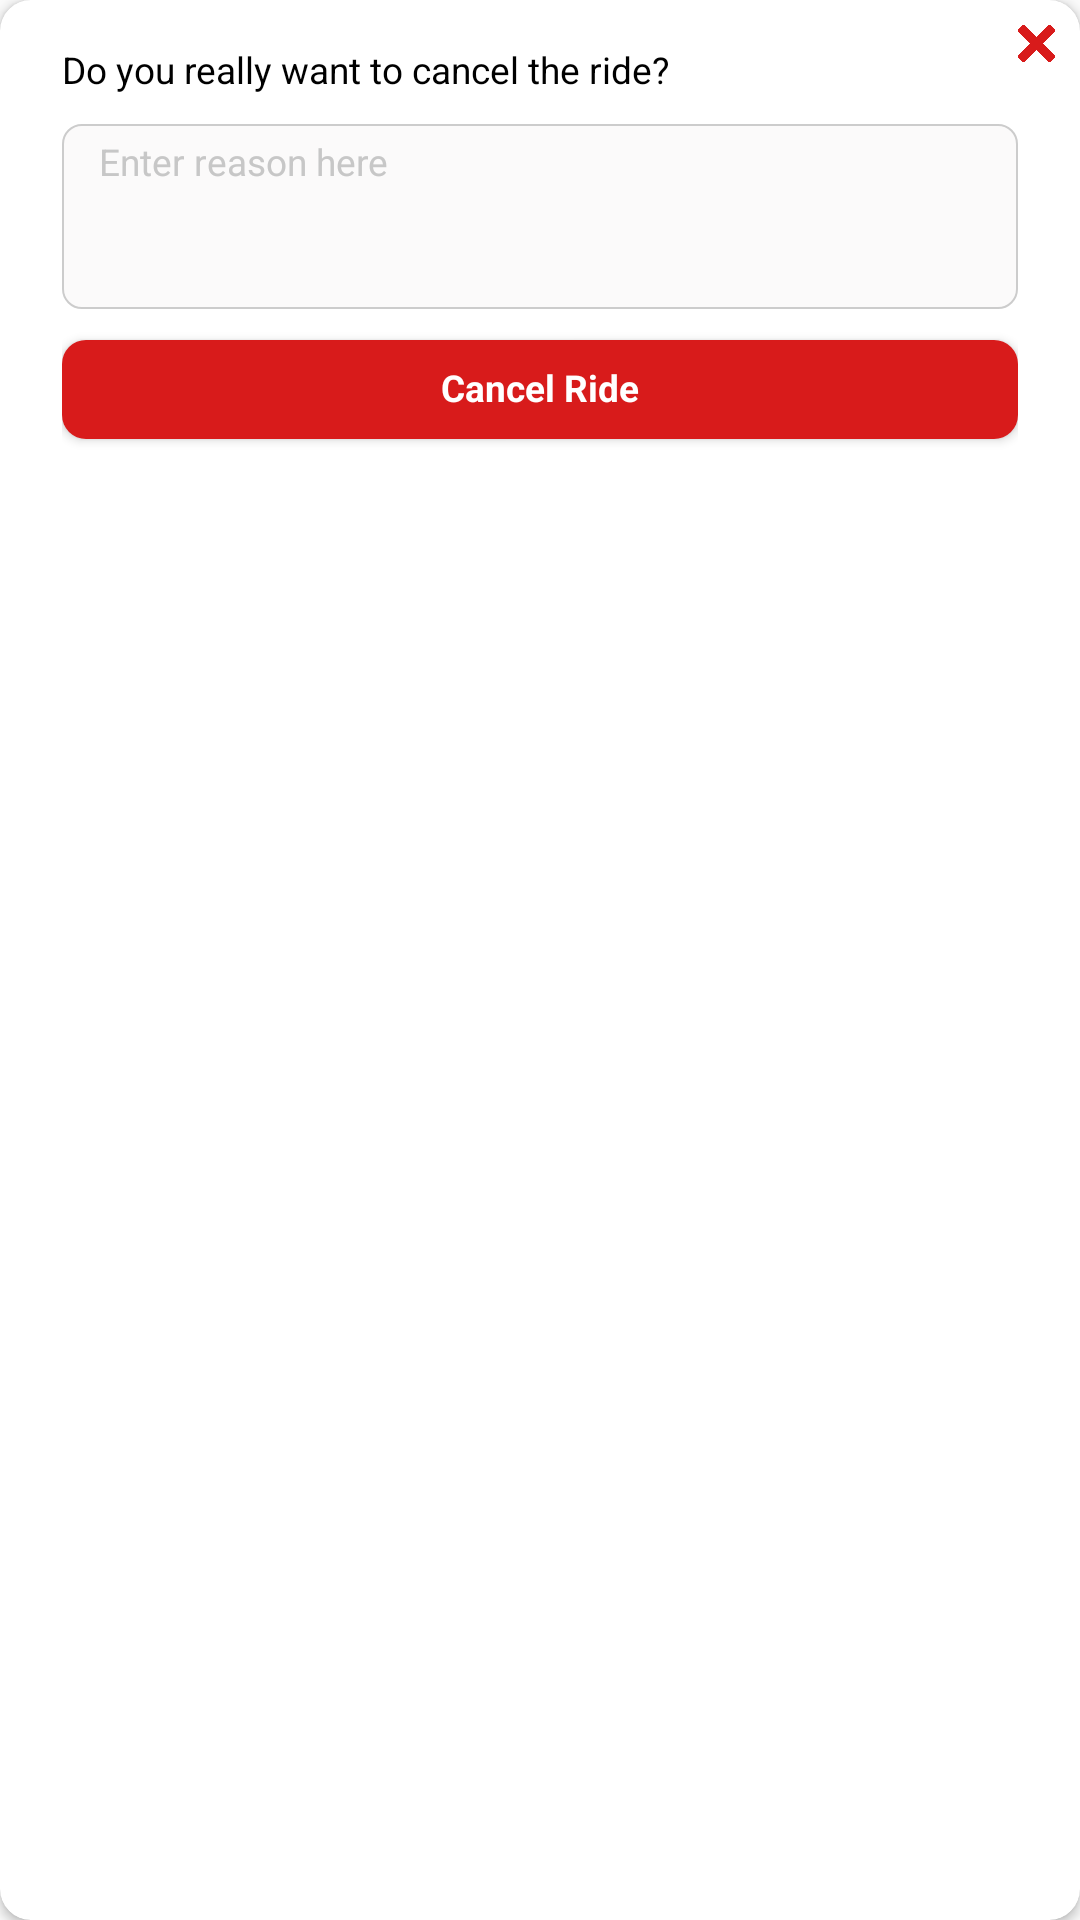

Locate icon controls on the screen. Image size 1080px x 1920px, boxes as (x1, y1, x2, y2).
close: (1018, 25, 1055, 62)
